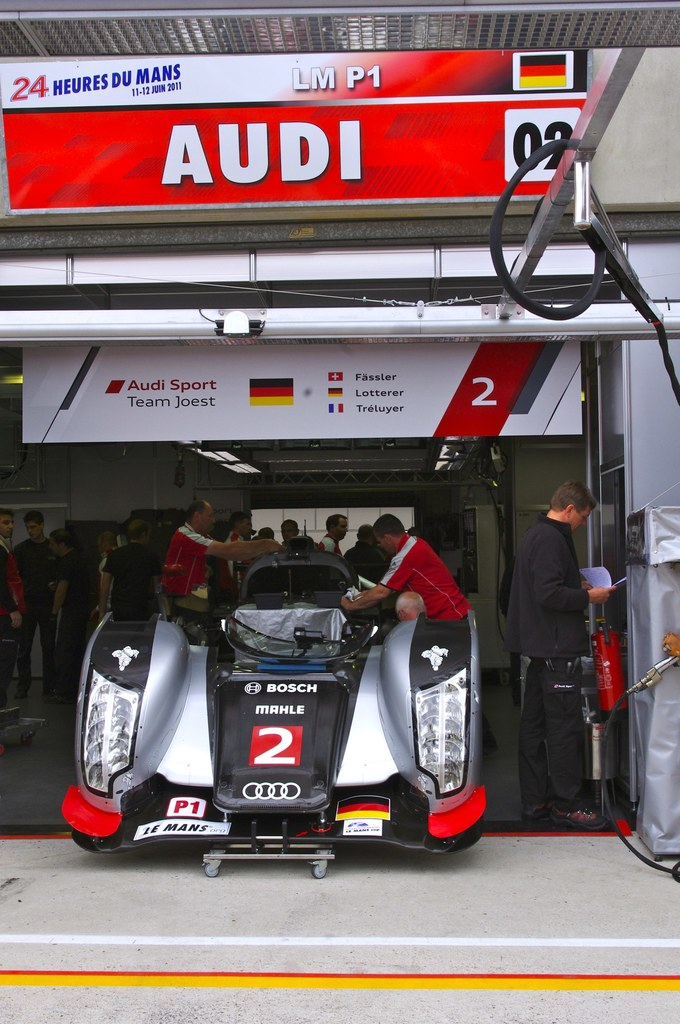cars: (58, 543, 492, 879)
